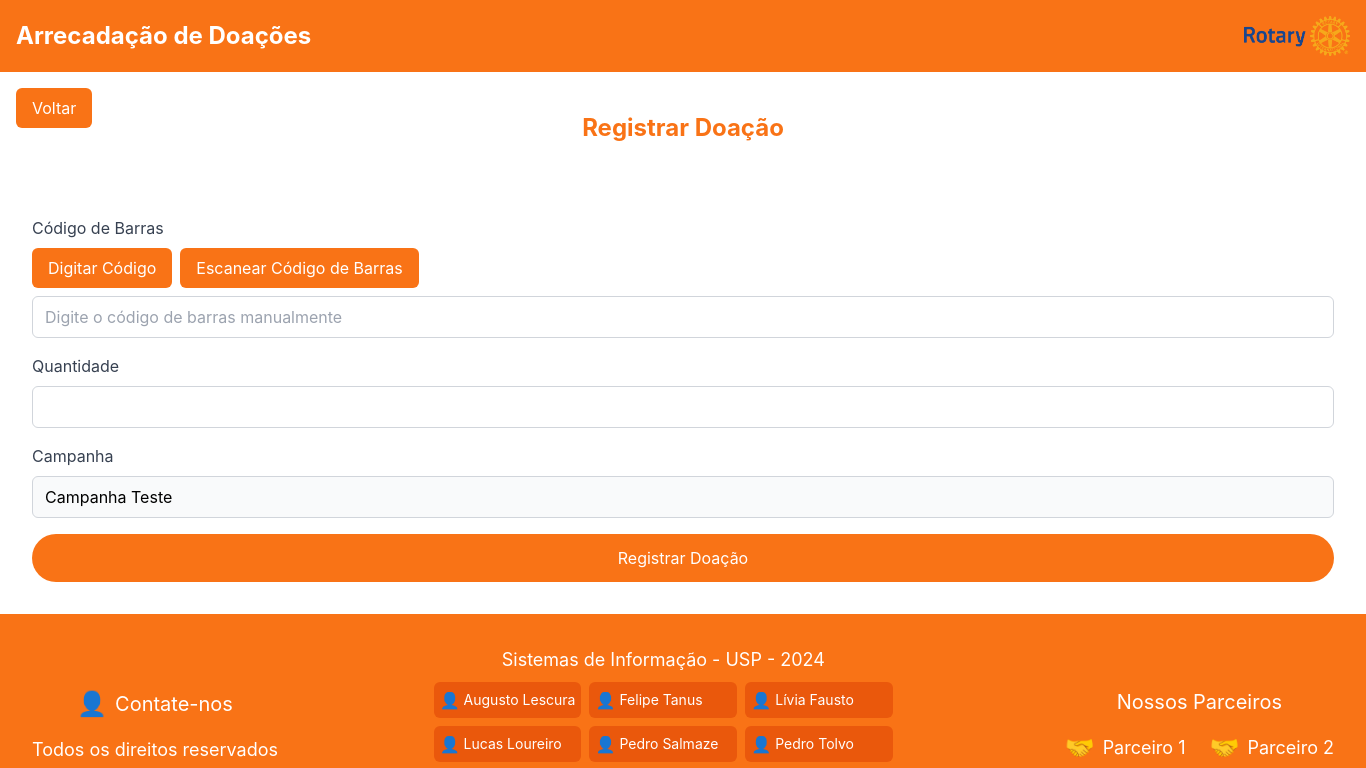
RegisterDonatePage › registra doação com sucesso e exibe informações do produto
Type "7893500020110" into the field labelled "Código de Barras". click: (683, 317)
box: [32,296,1334,338]
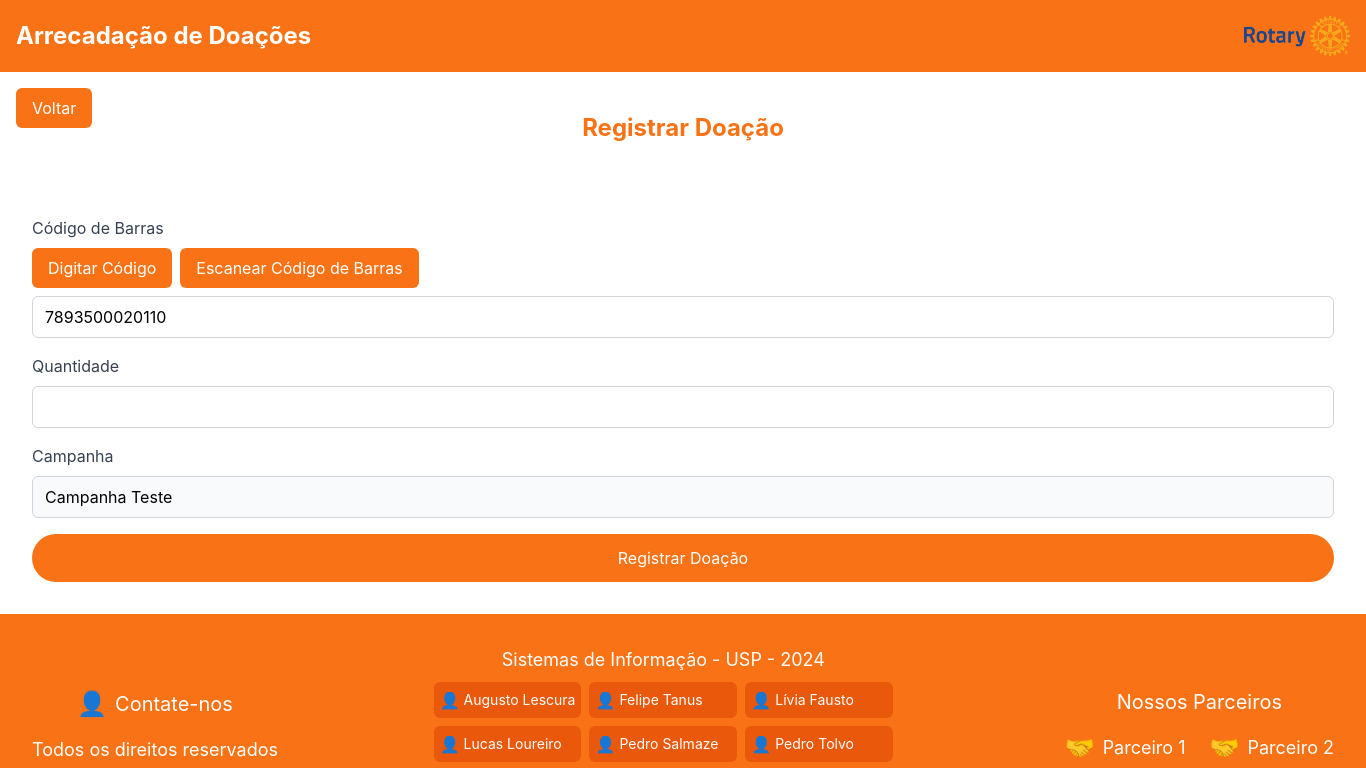
Type "5" into the number field labelled "Quantidade". click: (683, 407)
box: [32,386,1334,428]
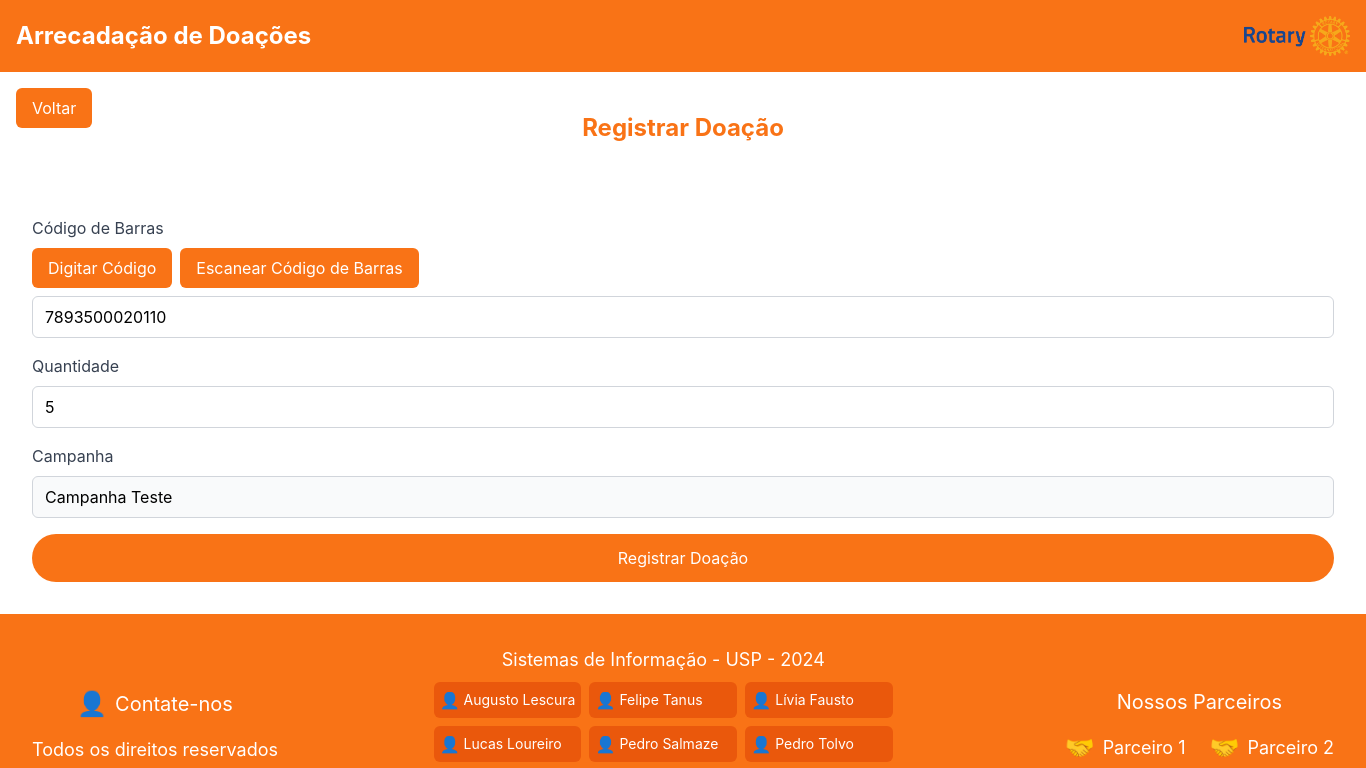
Submit the form from the button "Registrar Doação", box [32,534,1334,582]
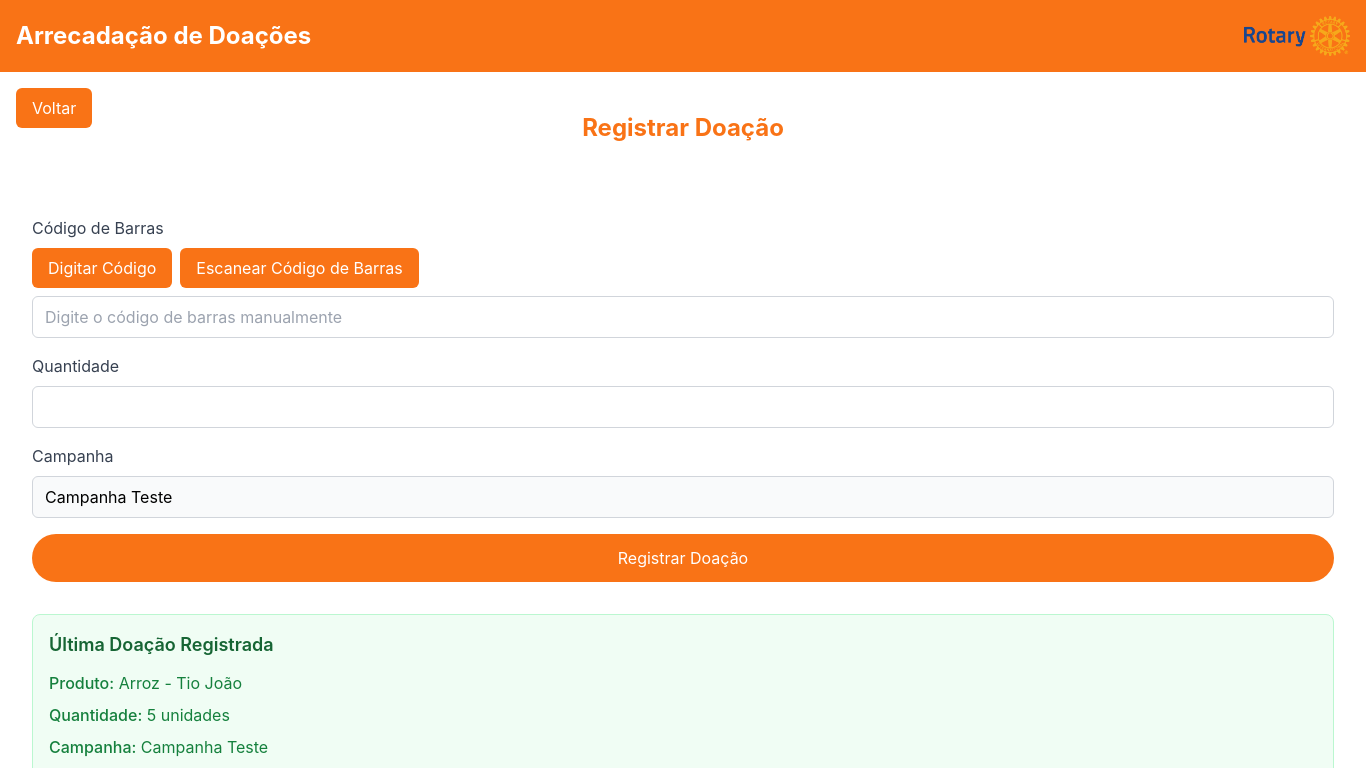
Expected: the text "5 unidades" is shown, [49,705,230,725]
